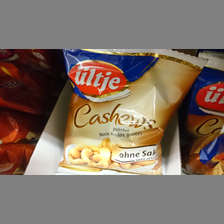nuts: (61, 50, 205, 174)
